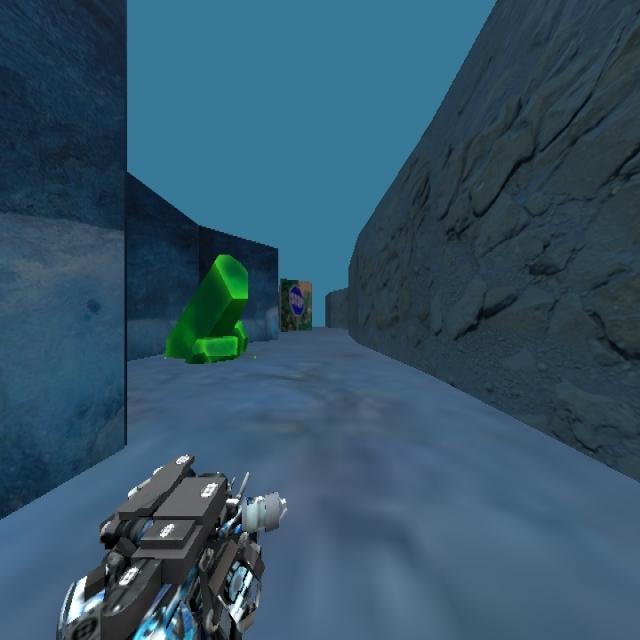Diamon: (163, 252, 249, 363)
Stop_Sign: (288, 283, 305, 316)
